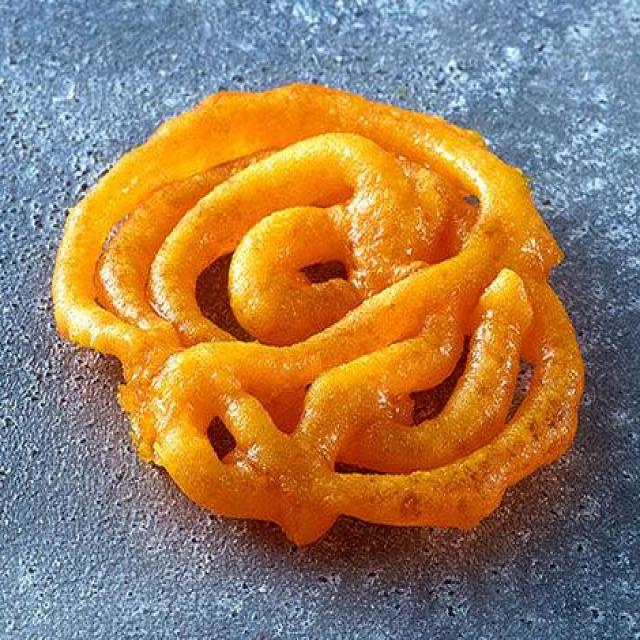jalebi: (54, 78, 578, 530)
